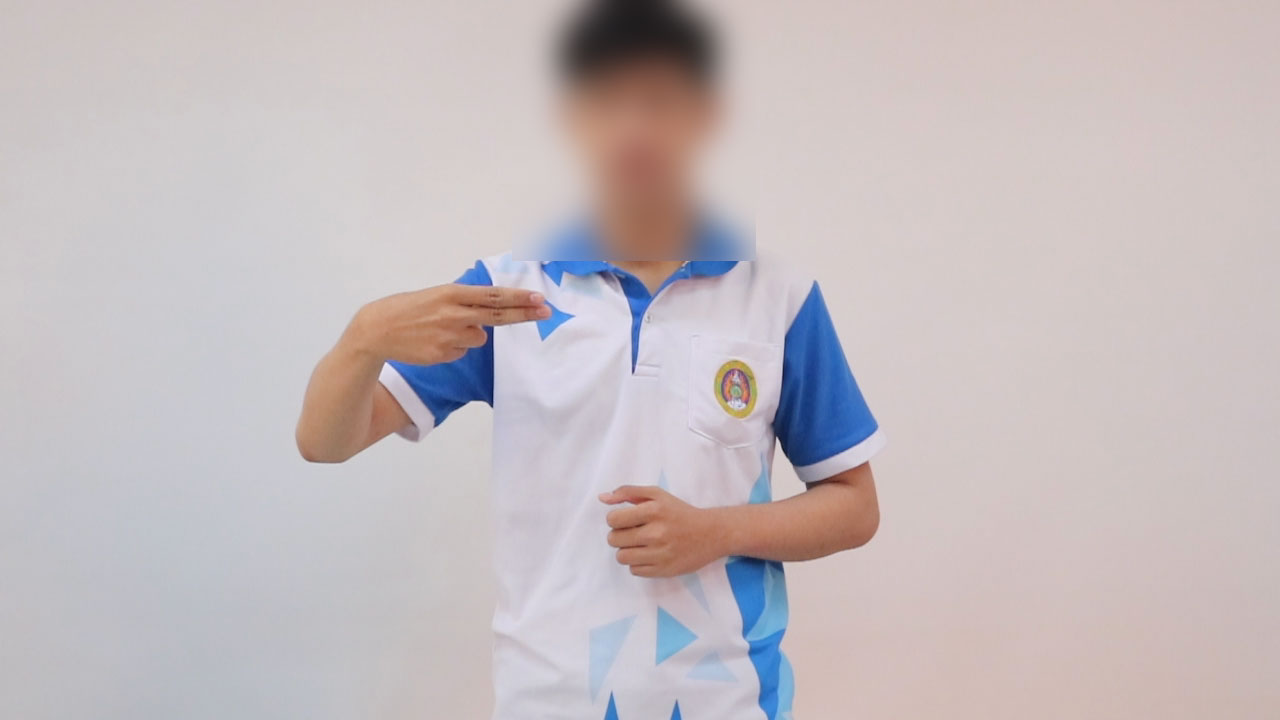hor: (339, 268, 559, 378)
